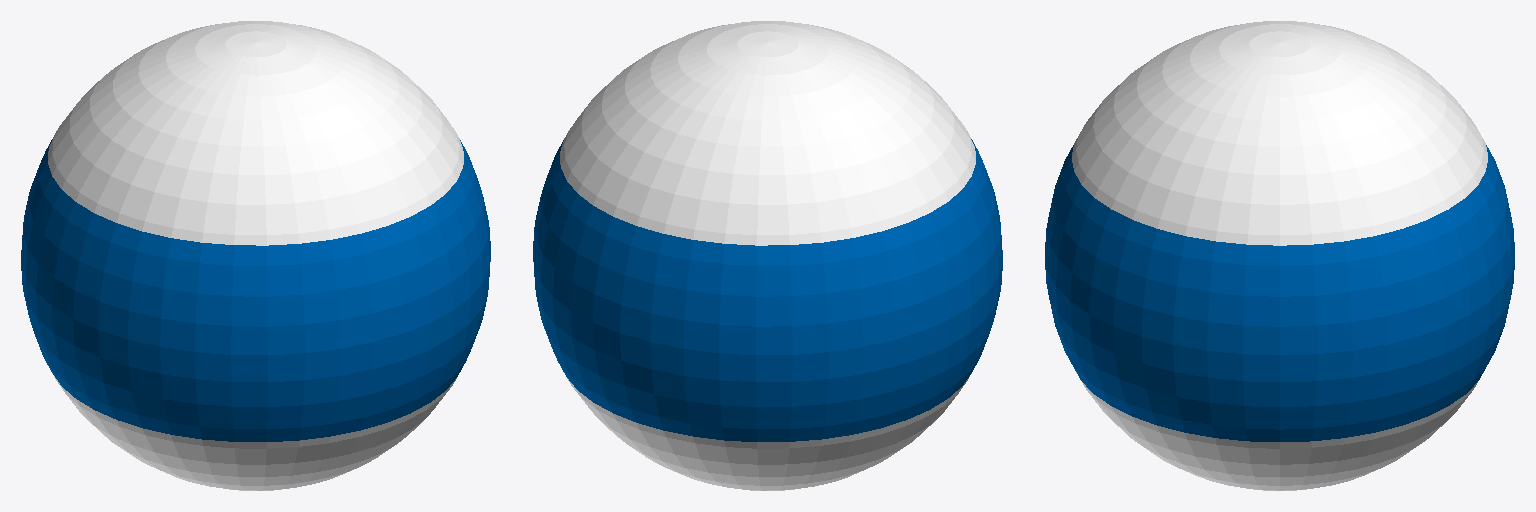
The picture shows the model from 3 angles: view 1: azimuth 30°, elevation 25°; view 2: azimuth 150°, elevation 25°; view 3: azimuth 270°, elevation 25°; orthographic projection.
Parts seen in each view (by area): view 1: 球_球.001; view 2: 球_球.001; view 3: 球_球.001.
Part boxes in pixels (x1,y1,x2,y2): 球_球.001: (21,21,490,490); 球_球.001: (533,21,1002,490); 球_球.001: (1045,21,1514,490).
Size of the model in its own units: 2 by 2 by 2.
Materials: 1 (1 with a texture image).